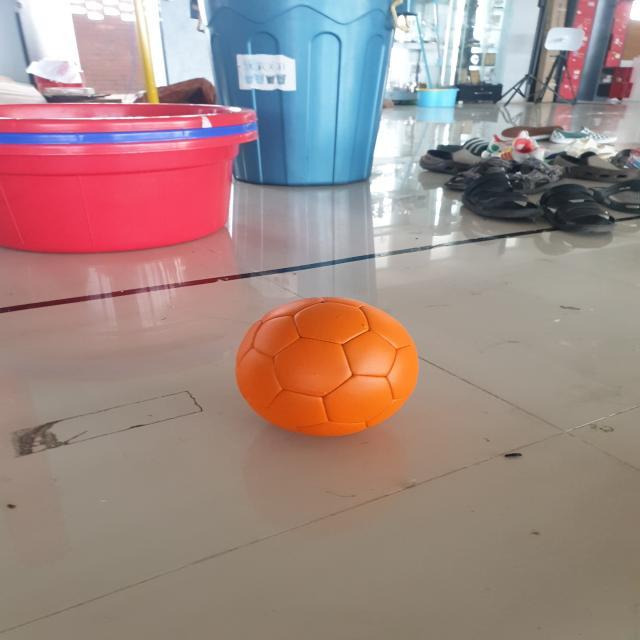bola: (209, 274, 436, 458)
